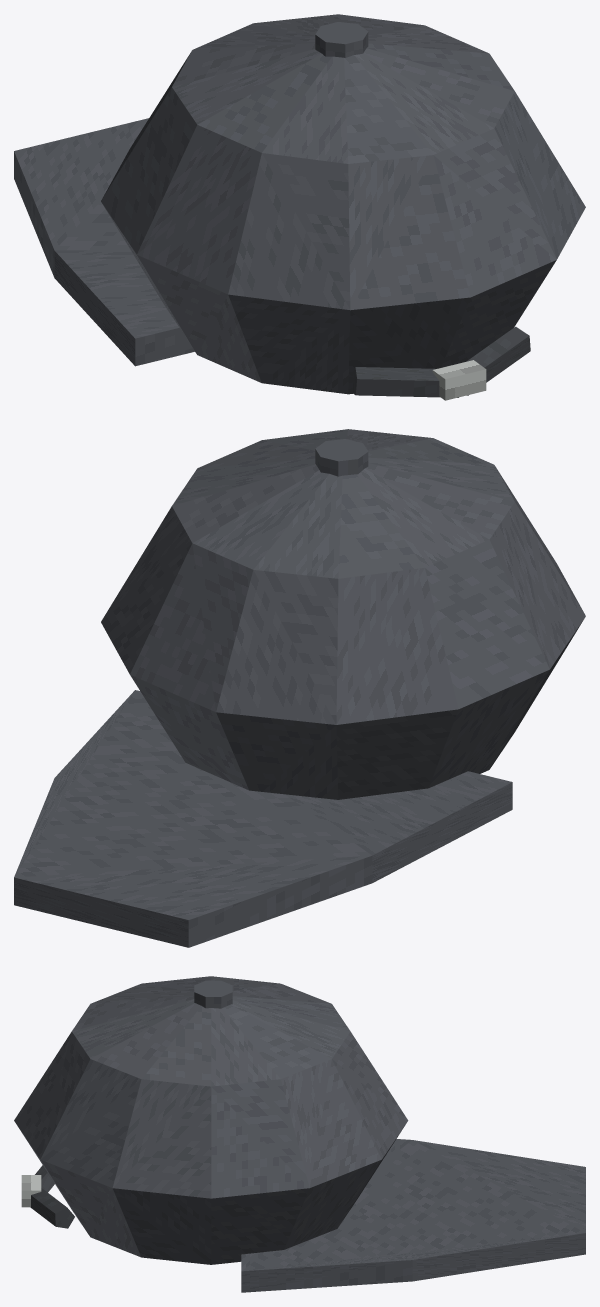
Rendered from hat_ball.glb.
The picture shows the model from 3 angles, top to bottom: view 1: azimuth 30°, elevation 25°; view 2: azimuth 150°, elevation 25°; view 3: azimuth 270°, elevation 25°; orthographic projection. The views are drawn at different scales.
Parts seen in each view (by area): view 1: block_soft cap crown, block_curved peak, block_rear adjustment strap 0, block_rear adjustment strap 1, block_covered button, block_strap buckle; view 2: block_soft cap crown, block_curved peak, block_covered button; view 3: block_soft cap crown, block_curved peak, block_rear adjustment strap 1, block_covered button, block_strap buckle.
Boxes of the visible parts, box(x1,y1,x2,y2) form: block_soft cap crown: box(101, 14, 585, 394); block_curved peak: box(14, 118, 194, 366); block_rear adjustment strap 0: box(352, 367, 458, 397); block_rear adjustment strap 1: box(466, 326, 530, 395); block_covered button: box(315, 22, 368, 57); block_strap buckle: box(432, 360, 486, 400); block_soft cap crown: box(101, 429, 585, 799); block_curved peak: box(14, 690, 512, 947); block_covered button: box(315, 439, 368, 476); block_soft cap crown: box(14, 976, 408, 1264); block_curved peak: box(241, 1139, 585, 1292); block_rear adjustment strap 1: box(30, 1188, 74, 1228); block_covered button: box(194, 980, 232, 1008); block_strap buckle: box(21, 1175, 41, 1207).
Bounding box in the file's own units: 0.1738 × 0.1338 × 0.269.
Materials: 1 (1 with a texture image).
